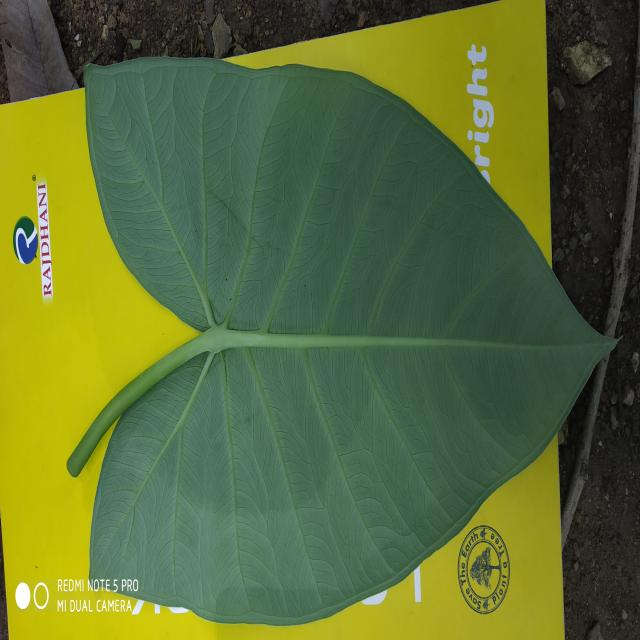taro: (68, 60, 614, 624)
